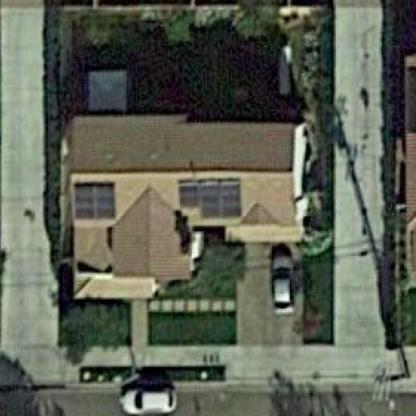car: (115, 372, 187, 415), (265, 238, 300, 318)
solar_panel: (175, 171, 258, 228), (76, 176, 124, 226)
